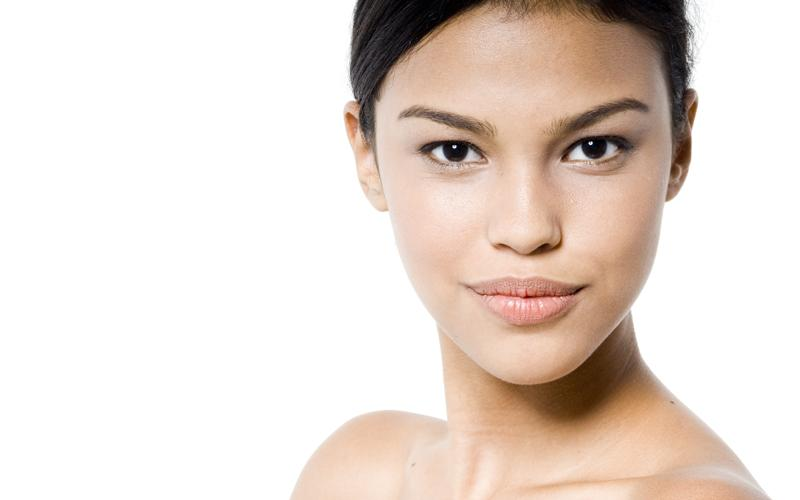Oily-Skin: (472, 409, 736, 500), (389, 168, 500, 294), (498, 105, 573, 250)
